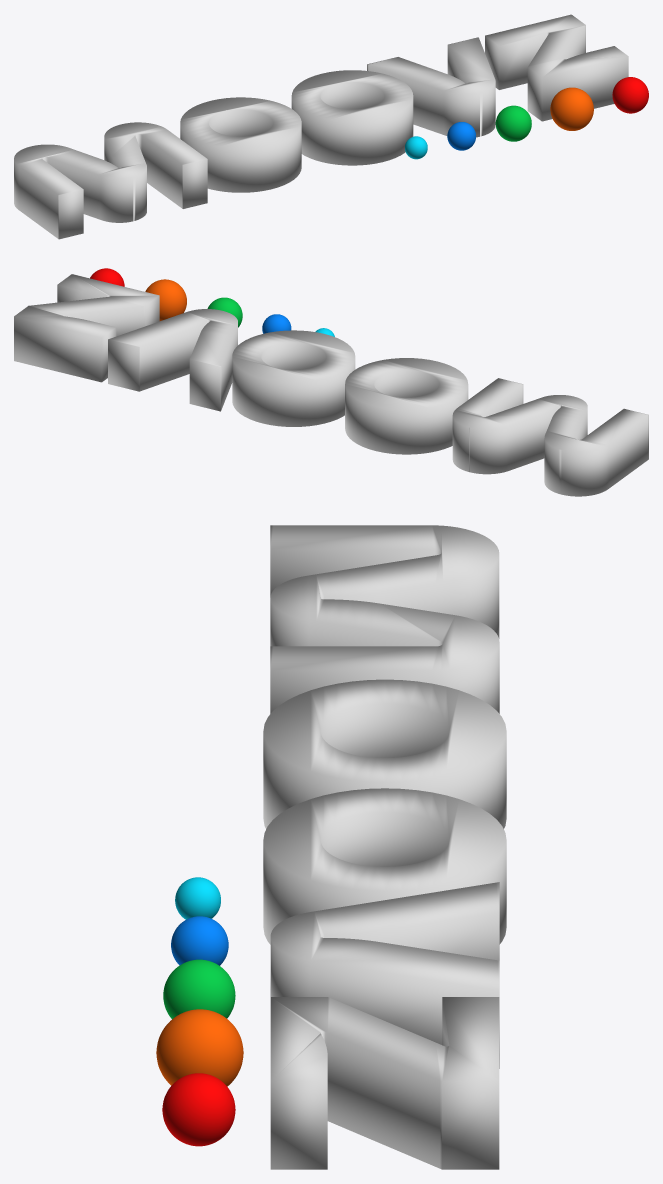
File: marca 3d.glb
3 views of the same model, one above another, from view 1: azimuth 30°, elevation 25°; view 2: azimuth 150°, elevation 25°; view 3: azimuth 270°, elevation 25° (orthographic). The views are drawn at different scales.
Parts seen in each view (by area): view 1: Curve.004, Sphere.003, Sphere.004, Sphere.002, Sphere.001, Sphere; view 2: Curve.004, Sphere.003, Sphere.002, Sphere.001, Sphere.004; view 3: Curve.004, Sphere.003, Sphere.004, Sphere.002, Sphere.001, Sphere.
Boxes of the visible parts, x1,y1,x2,y2 form: Curve.004: (14, 14, 628, 239); Sphere.003: (550, 87, 593, 130); Sphere.004: (612, 77, 648, 113); Sphere.002: (495, 105, 531, 141); Sphere.001: (447, 122, 475, 150); Sphere: (405, 136, 427, 159); Curve.004: (14, 274, 648, 496); Sphere.003: (145, 279, 186, 320); Sphere.002: (207, 297, 242, 327); Sphere.001: (262, 314, 291, 333); Sphere.004: (90, 268, 124, 286); Curve.004: (263, 525, 506, 1169); Sphere.003: (156, 1009, 243, 1086); Sphere.004: (162, 1073, 235, 1146); Sphere.002: (163, 959, 235, 1019); Sphere.001: (171, 916, 228, 965); Sphere: (175, 877, 220, 919).
Size of the model in its own units: 17.68 by 1.31 by 4.7.
